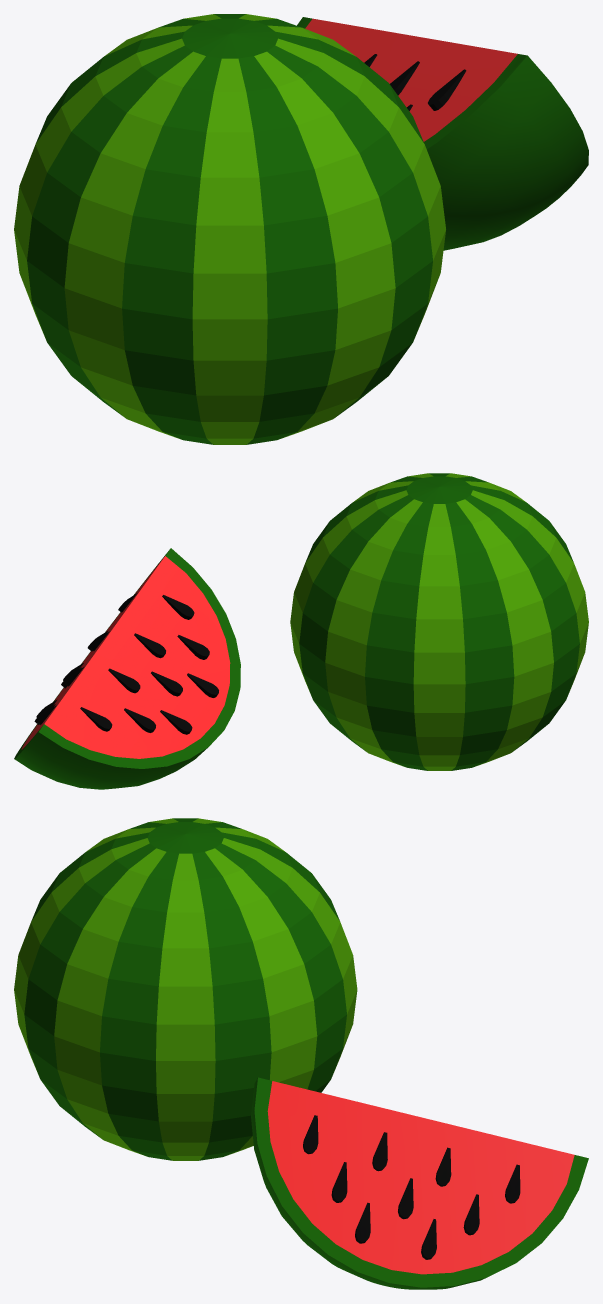
The model's file is Watermelons.fbx.
3 views of the same model, one above another, from view 1: azimuth 30°, elevation 25°; view 2: azimuth 150°, elevation 25°; view 3: azimuth 270°, elevation 25° (orthographic). The views are drawn at different scales.
Visible parts, largest first — view 1: Sphere.003, Sphere.002, Sphere.004, Outer watermelon, Sphere.005, Sphere.018, Sphere.001, Sphere.006, Inner watermelon, Sphere.017, Sphere.007, Sphere.019 (+5 smaller); view 2: Inner watermelon, Sphere.009, Sphere.008, Sphere.010, Sphere.011, Sphere.007, Outer watermelon, Sphere.006, Sphere.012, Sphere.013, Sphere.005, Sphere.019 (+2 smaller); view 3: Inner watermelon, Sphere.015, Sphere.016, Sphere.014, Sphere.017, Sphere.013, Outer watermelon, Sphere.001, Sphere.012, Sphere.011, Sphere.018, Sphere.019 (+2 smaller).
Boxes of the visible parts, x1,y1,x2,y2 form: Sphere.003: (192, 58, 267, 444); Sphere.002: (238, 56, 337, 444); Sphere.004: (122, 56, 221, 444); Outer watermelon: (297, 17, 588, 250); Sphere.005: (64, 51, 205, 439); Sphere.018: (254, 51, 395, 438); Sphere.001: (267, 45, 432, 417); Sphere.006: (27, 45, 192, 416); Inner watermelon: (305, 18, 517, 141); Sphere.017: (275, 38, 445, 338); Sphere.007: (14, 38, 184, 337); Sphere.019: (182, 18, 277, 58); Inner watermelon: (21, 556, 230, 758); Sphere.009: (413, 504, 465, 770); Sphere.008: (445, 502, 514, 770); Sphere.010: (365, 502, 433, 770); Sphere.011: (325, 499, 422, 766); Sphere.007: (456, 499, 553, 766); Outer watermelon: (14, 548, 240, 789); Sphere.006: (465, 495, 579, 751); Sphere.012: (299, 495, 413, 751); Sphere.013: (290, 490, 408, 695); Sphere.005: (471, 490, 588, 696); Sphere.019: (406, 476, 472, 503); Inner watermelon: (267, 1081, 574, 1274); Sphere.015: (156, 853, 215, 1160); Sphere.016: (100, 852, 178, 1160); Sphere.014: (192, 852, 271, 1160); Sphere.017: (54, 848, 166, 1155); Sphere.013: (205, 848, 317, 1155); Outer watermelon: (251, 1077, 588, 1289); Sphere.001: (24, 843, 156, 1139); Sphere.012: (215, 843, 346, 1092); Sphere.011: (221, 838, 357, 1076); Sphere.018: (14, 838, 149, 1074); Sphere.019: (147, 822, 223, 853).
Bounding box in the file's own units: 621 × 368 × 617.
Materials: 1 (1 with a texture image).
